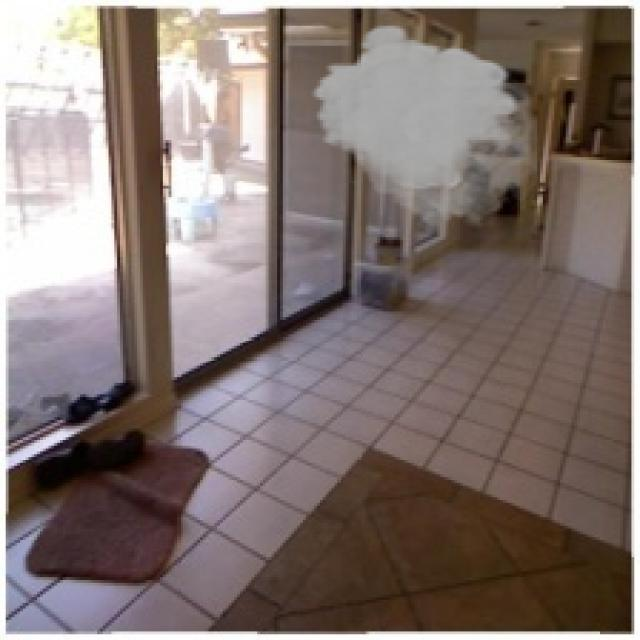Smoke: (308, 23, 538, 234)
